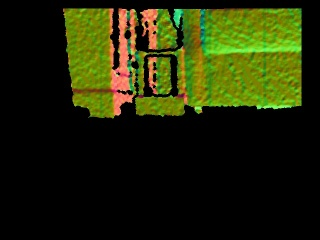station: (134, 50, 186, 116)
